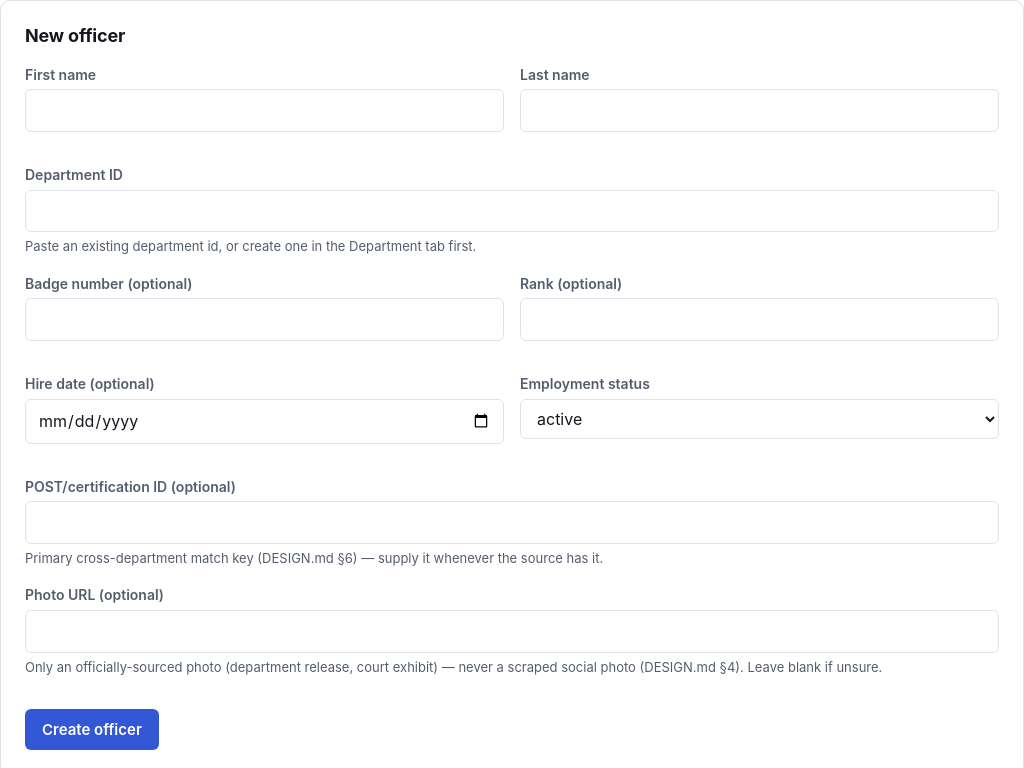
Scenario: NewOfficerForm › surfaces an API error instead of swallowing it
Type "Jordan" into the field labelled "First name" at {"x": 264, "y": 111}, box [25,89,504,132]
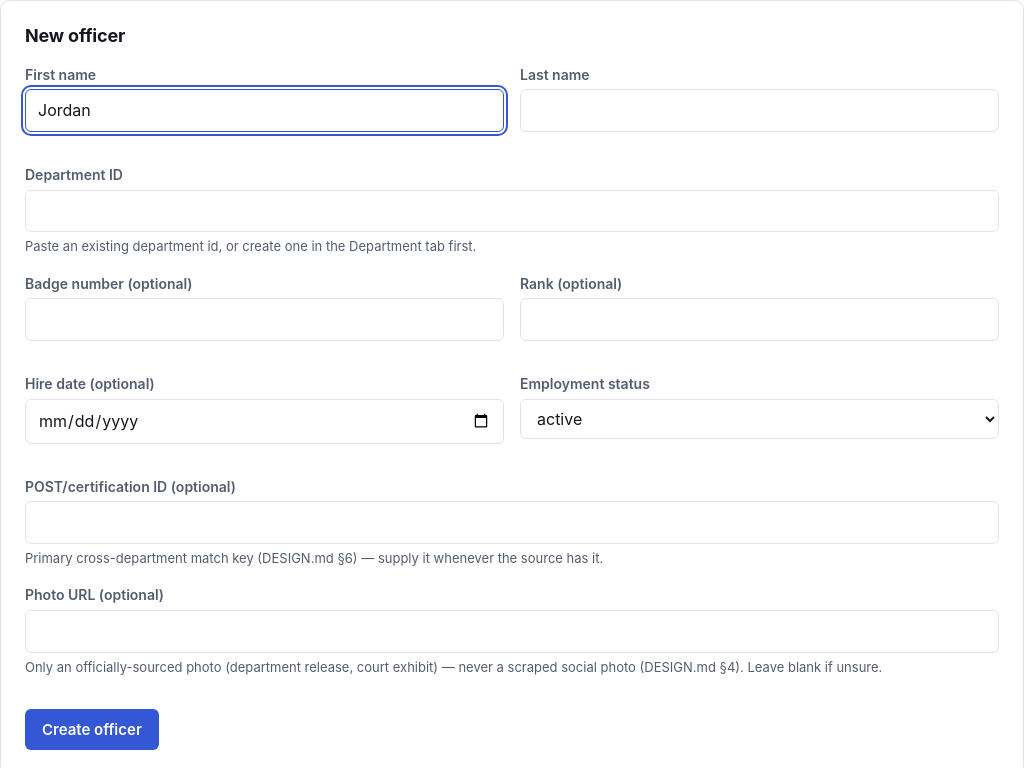
Type "Lee" into the field labelled "Last name" at {"x": 760, "y": 111}, box [520,89,999,132]
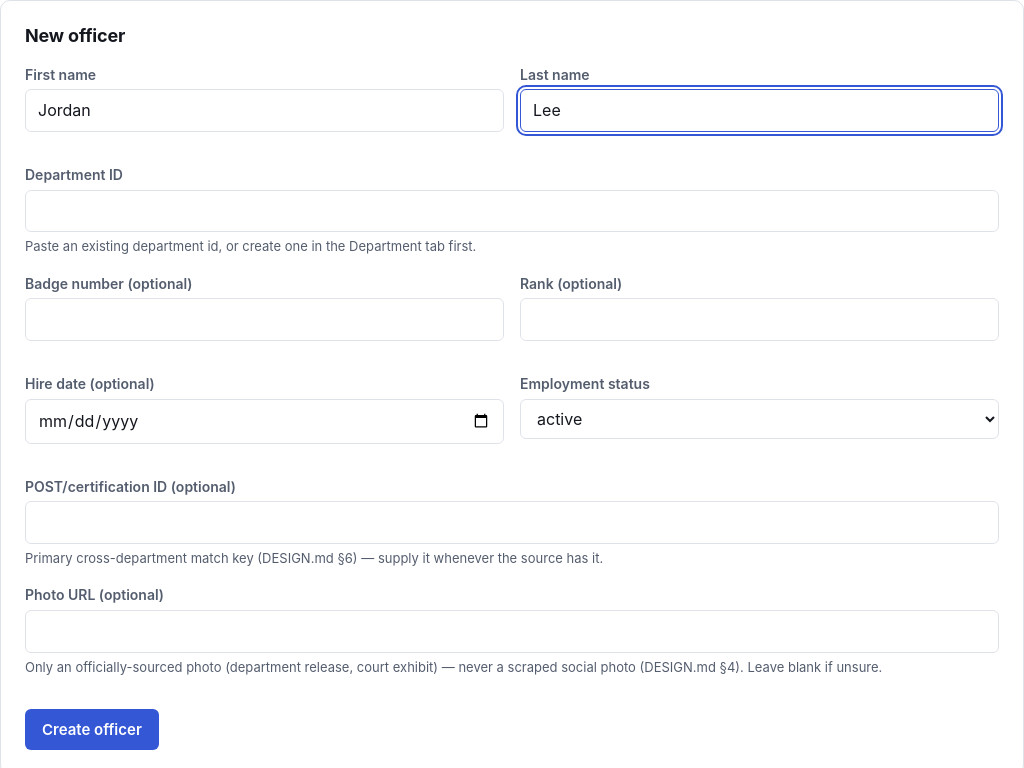
Type "dept-unknown" into the field labelled "Department ID" at {"x": 512, "y": 211}, box [25,190,999,232]
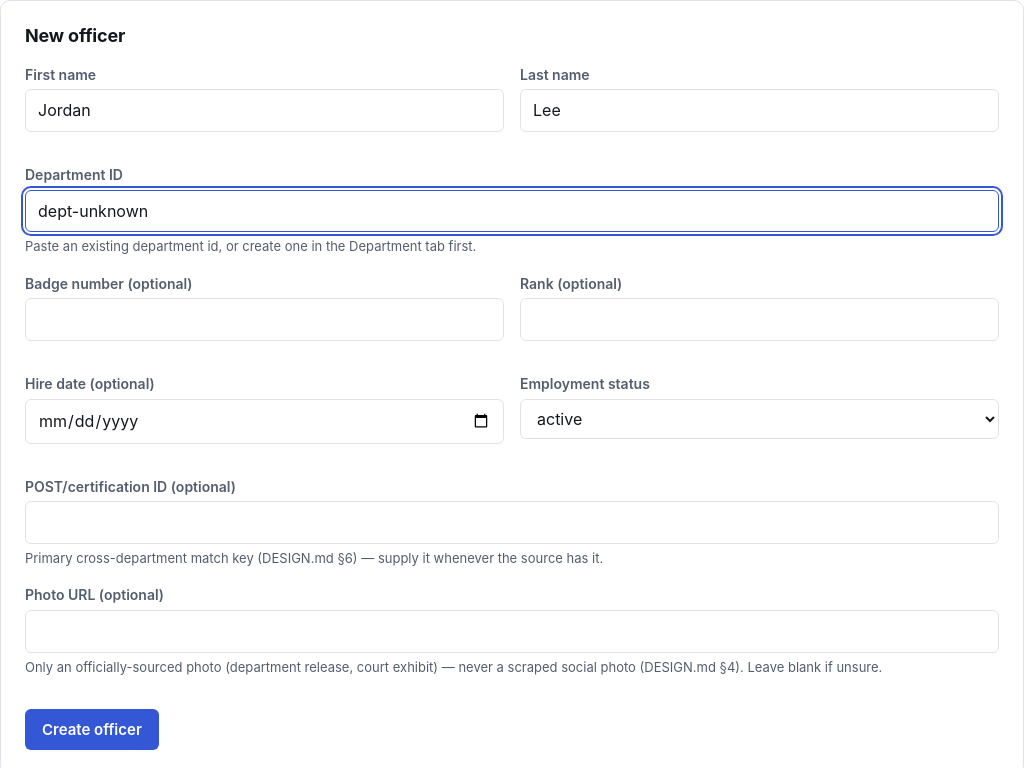
Click the button "Create officer" at {"x": 92, "y": 729}, box [25,709,159,750]
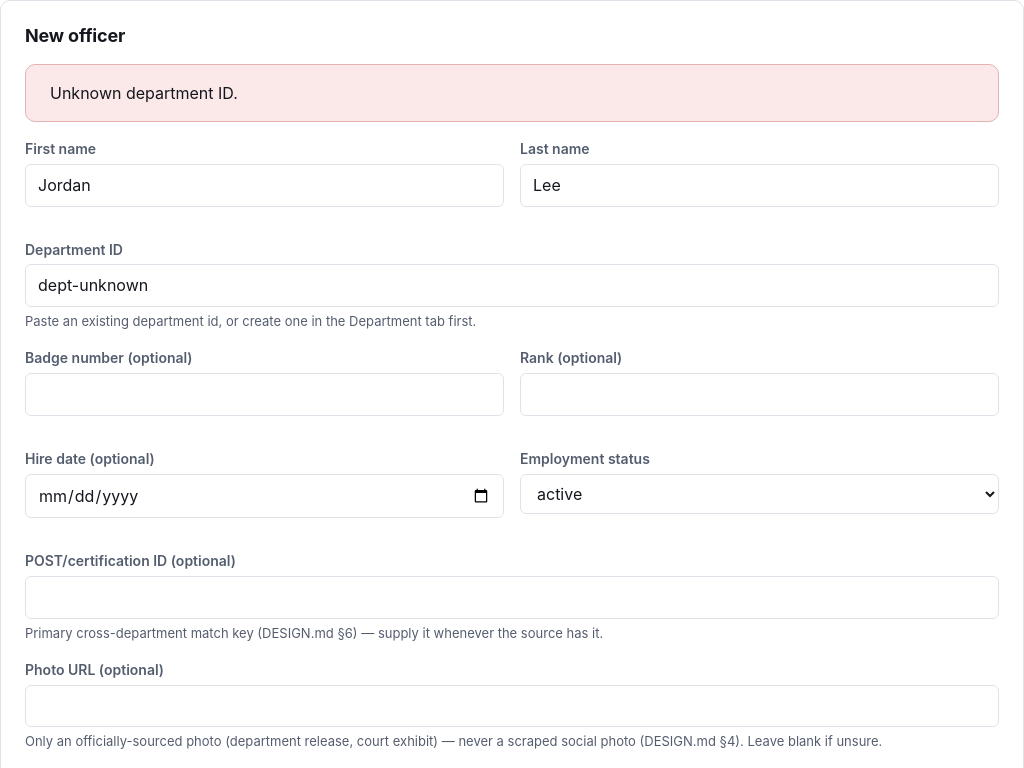
Now the message reads "Unknown department ID.", box [50,82,238,102]
